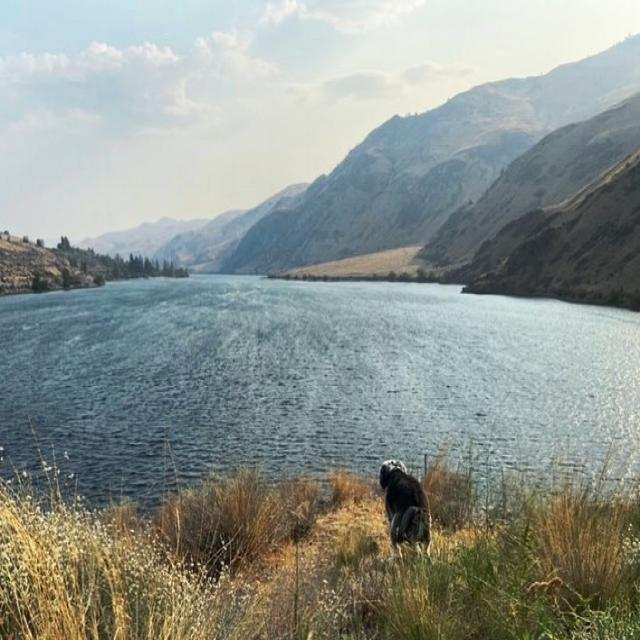squatting: (377, 456, 436, 566)
